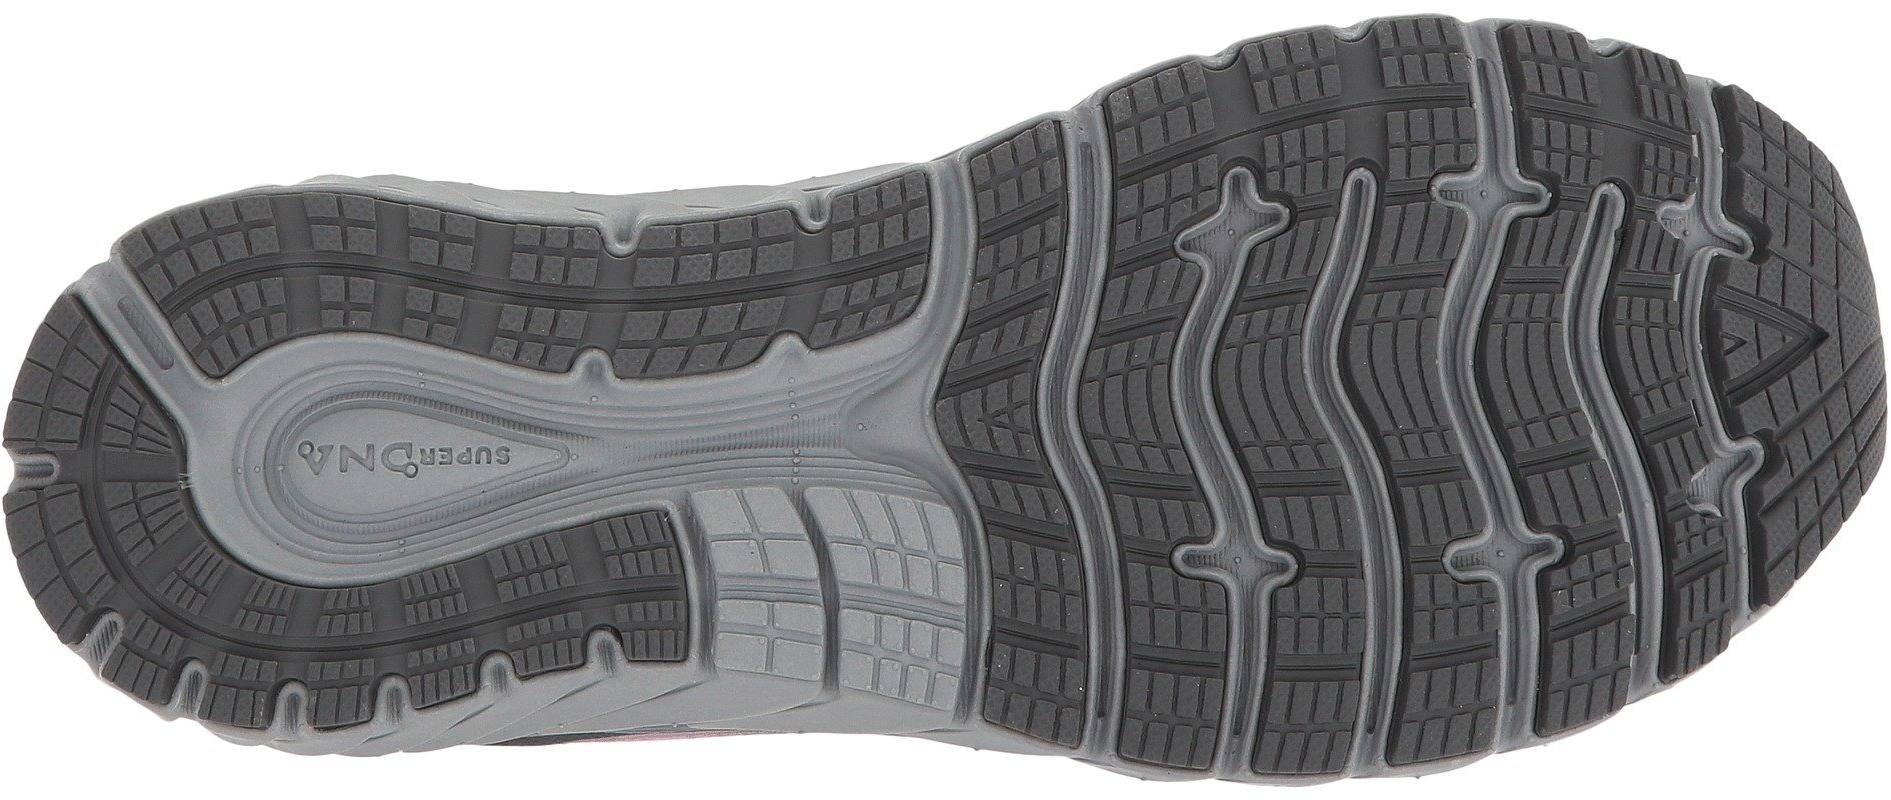quad: (1237, 293, 1474, 529), (712, 489, 968, 703), (964, 302, 1181, 495), (1272, 576, 1503, 754), (1002, 541, 1200, 740), (649, 221, 775, 364), (317, 204, 443, 325)
text: (306, 422, 402, 508)
